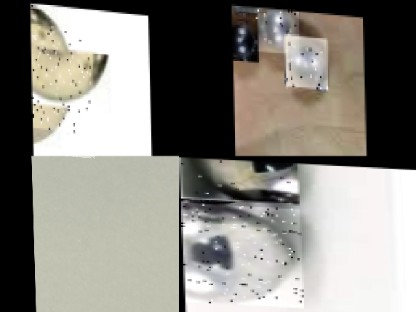ironball: (180, 201, 302, 305), (30, 21, 94, 130), (178, 156, 298, 202), (284, 30, 327, 85), (257, 5, 299, 50), (231, 11, 258, 59)
